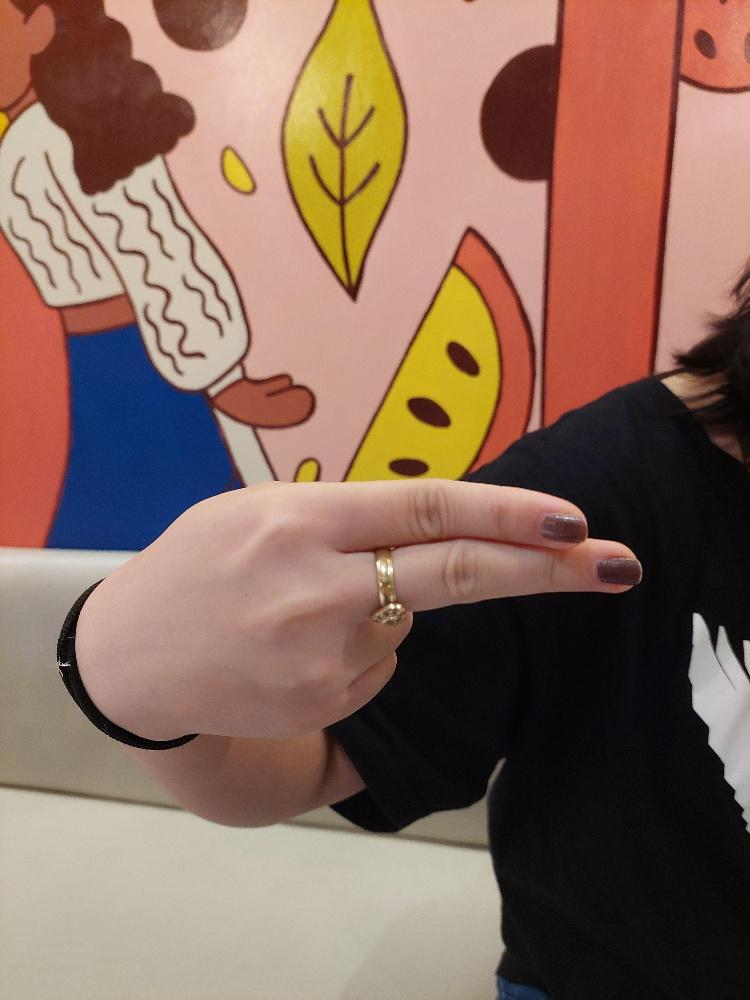h: (64, 473, 644, 740)
